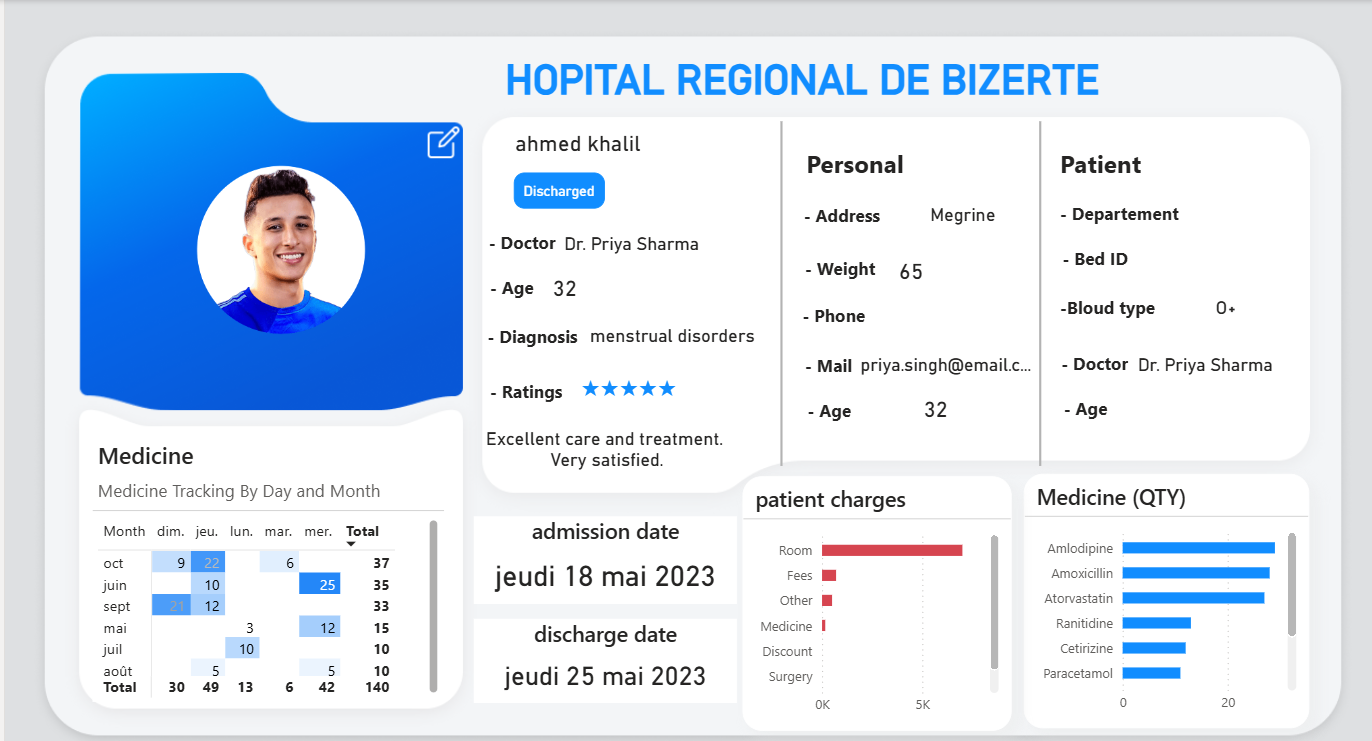

The page's visual inventory and layout, read from the dashboard file:
{"tool":"powerbi","page":{"name":"Page 1","canvas":[1280,720],"ordinal":0},"visuals":[{"type":"textbox","box":[209.9,47.1,1062.9,66.4],"z":1000},{"type":"image","box":[388.3,112.5,39.8,39.8],"z":3000},{"type":"pivotTable","title":"Medicine ","fields":{"Columns":["calendar.Day"],"Rows":["calendar.Month"],"Values":["Sum(medicine_patient.qty)"]},"box":[81.7,408.5,326.8,245.1],"z":5000},{"type":"clusteredBarChart","title":"Medicine  (QTY)","fields":{"Category":["medical_stock_info.name"],"Y":["Sum(medicine_patient.qty)"]},"box":[948.1,440.9,265.5,236.6],"z":6000},{"type":"clusteredBarChart","title":"patient charges","fields":{"Category":["bills.Charge_Type"],"Y":["Sum(bills.Value)"]},"box":[686,442.6,250.2,236.6],"z":7000},{"type":"card","title":"discharge date","fields":{"Values":["Min(patient_info.patient_discharge_date)"]},"box":[435.7,575.3,245.1,78.3],"z":8000},{"type":"card","title":"admission date","fields":{"Values":["Min(patient_info.patient_admission_date)"]},"box":[435.7,480,245.1,81.7],"z":9000},{"type":"cardVisual","fields":{"Data":["Min(patient_info.patient_Img)"]},"box":[0,98.9,352.3,267.8],"z":10000},{"type":"card","title":"admission date","fields":{"Values":["Min(patient_info.patient_name)"]},"box":[468.8,113.2,129.3,41],"z":11000},{"type":"card","title":"admission date","fields":{"Values":["Min(patient_info.patient_status)"]},"box":[473.8,160.4,84.6,33.6],"z":12000},{"type":"shape","box":[450,205.1,149.6,41],"z":13000},{"type":"shape","box":[451.7,246.7,149.2,40.4],"z":14000},{"type":"shape","box":[448.9,291.7,149.6,41],"z":15000},{"type":"card","title":"admission date","fields":{"Values":["Min(appointments.diagnosis)"]},"box":[533.4,291.6,174.6,41.6],"z":16000},{"type":"card","title":"admission date","fields":{"Values":["Sum(patient_info.patient_age)"]},"box":[457.2,248.1,128.3,40.4],"z":17000},{"type":"card","title":"admission date","fields":{"Values":["Min(patient_info.doctor_name)"]},"box":[514.4,206.8,138.3,40.3],"z":18000},{"type":"card","title":"admission date","fields":{"Values":["patient_info.rating"]},"box":[526.7,337.6,107.3,50.2],"z":19000},{"type":"shape","box":[451.4,341.8,149.2,41.8],"z":20000},{"type":"card","title":"admission date","fields":{"Values":["Min(patient_info.satisfaction_feedback)"]},"box":[440.5,383.4,234.2,69.7],"z":21000},{"type":"shape","box":[690.1,112.9,65.5,320.6],"z":22000},{"type":"shape","box":[929.8,112.9,65.5,320.6],"z":23000},{"type":"shape","box":[743.3,179.4,149.6,41],"z":24000},{"type":"shape","box":[743.8,229.2,149.2,40.4],"z":25000},{"type":"shape","box":[741.9,272.4,149.2,40.6],"z":26000},{"type":"card","title":"admission date","fields":{"Values":["Sum(patient_info.patient_weight)"]},"box":[779.5,232.6,128.3,40.4],"z":28000},{"type":"card","title":"admission date","fields":{"Values":["Min(patient_info.patient_address)"]},"box":[820.7,180.3,140.5,39.8],"z":29000},{"type":"shape","box":[981.9,178.3,149.6,41],"z":30000},{"type":"shape","box":[983.6,219.9,149.2,40.4],"z":31000},{"type":"shape","box":[980.8,264.9,149.6,41],"z":32000},{"type":"card","title":"admission date","fields":{"Values":["Min(patient_info.patient_blood_group)"]},"box":[1085.3,266.6,102.9,42],"z":33000},{"type":"card","title":"admission date","fields":{"Values":["Min(patient_info.beds_bed_id)"]},"box":[1046.9,221.7,105.9,40.4],"z":34000},{"type":"card","title":"admission date","fields":{"Values":["Min(patient_info.department_name)"]},"box":[1085.3,178.2,137.7,40.6],"z":35000},{"type":"shape","box":[744.4,318.8,149.6,41],"z":36000},{"type":"shape","box":[746,360.4,149.2,40.4],"z":37000},{"type":"card","title":"admission date","fields":{"Values":["Sum(patient_info.patient_age)"]},"box":[802.7,360.8,127.5,40.6],"z":38000},{"type":"shape","box":[983,317.7,149.6,41],"z":40000},{"type":"shape","box":[984.7,359.3,149.2,40.4],"z":41000},{"type":"card","title":"admission date","fields":{"Values":["Min(patient_info.patient_email)"]},"box":[788.2,320.2,173.9,40.6],"z":42000},{"type":"card","title":"admission date","fields":{"Values":["Min(patient_info.doctor_name)"]},"box":[1047.4,319.4,138.3,40.3],"z":43000},{"type":"shape","box":[981.4,131,150.6,40.4],"z":44000},{"type":"shape","box":[745.8,131,150.6,40.4],"z":45000}]}

Visuals, with their boxes on the page's 1280x720 design canvas (x1, y1, x2, y2). These are canvas units, not pixel positions in the 1372x741 screenshot, which may show the page scaled, cropped or inside an application window:
textbox: <bbox>210, 47, 1273, 114</bbox>
image: <bbox>388, 112, 428, 152</bbox>
"Medicine " pivotTable: <bbox>82, 408, 408, 654</bbox>
"Medicine  (QTY)" clusteredBarChart: <bbox>948, 441, 1214, 678</bbox>
"patient charges" clusteredBarChart: <bbox>686, 443, 936, 679</bbox>
"discharge date" card: <bbox>436, 575, 681, 654</bbox>
"admission date" card: <bbox>436, 480, 681, 562</bbox>
cardVisual - Min(patient_info.patient_Img): <bbox>0, 99, 352, 367</bbox>
"admission date" card: <bbox>469, 113, 598, 154</bbox>
"admission date" card: <bbox>474, 160, 558, 194</bbox>
shape: <bbox>450, 205, 600, 246</bbox>
shape: <bbox>452, 247, 601, 287</bbox>
shape: <bbox>449, 292, 598, 333</bbox>
"admission date" card: <bbox>533, 292, 708, 333</bbox>
"admission date" card: <bbox>457, 248, 586, 288</bbox>
"admission date" card: <bbox>514, 207, 653, 247</bbox>
"admission date" card: <bbox>527, 338, 634, 388</bbox>
shape: <bbox>451, 342, 601, 384</bbox>
"admission date" card: <bbox>440, 383, 675, 453</bbox>
shape: <bbox>690, 113, 756, 434</bbox>
shape: <bbox>930, 113, 995, 434</bbox>
shape: <bbox>743, 179, 893, 220</bbox>
shape: <bbox>744, 229, 893, 270</bbox>
shape: <bbox>742, 272, 891, 313</bbox>
"admission date" card: <bbox>780, 233, 908, 273</bbox>
"admission date" card: <bbox>821, 180, 961, 220</bbox>
shape: <bbox>982, 178, 1132, 219</bbox>
shape: <bbox>984, 220, 1133, 260</bbox>
shape: <bbox>981, 265, 1130, 306</bbox>
"admission date" card: <bbox>1085, 267, 1188, 309</bbox>
"admission date" card: <bbox>1047, 222, 1153, 262</bbox>
"admission date" card: <bbox>1085, 178, 1223, 219</bbox>
shape: <bbox>744, 319, 894, 360</bbox>
shape: <bbox>746, 360, 895, 401</bbox>
"admission date" card: <bbox>803, 361, 930, 401</bbox>
shape: <bbox>983, 318, 1133, 359</bbox>
shape: <bbox>985, 359, 1134, 400</bbox>
"admission date" card: <bbox>788, 320, 962, 361</bbox>
"admission date" card: <bbox>1047, 319, 1186, 360</bbox>
shape: <bbox>981, 131, 1132, 171</bbox>
shape: <bbox>746, 131, 896, 171</bbox>
